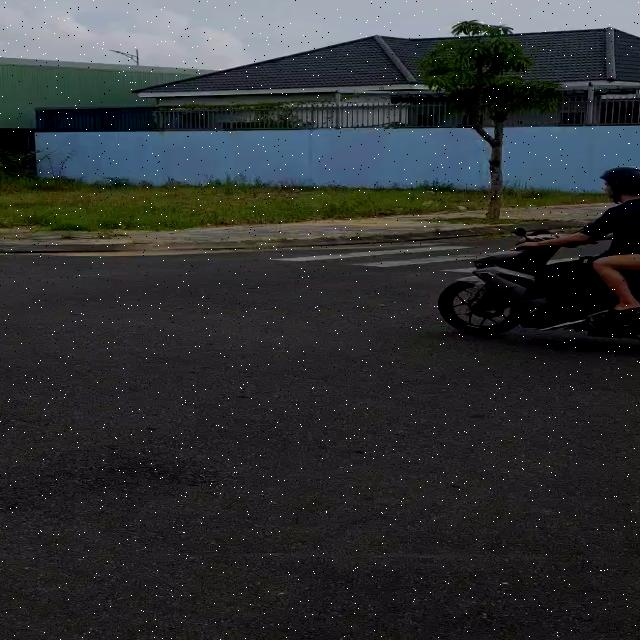helmet: (596, 166, 640, 216)
